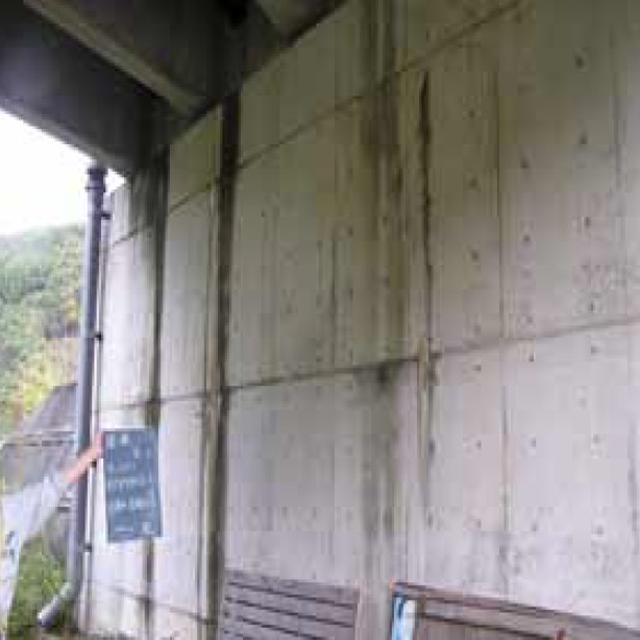leakage: (201, 95, 246, 606), (134, 163, 170, 413)
